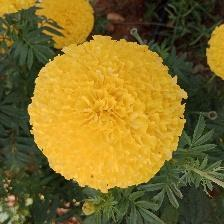marigold: (32, 40, 186, 186)
